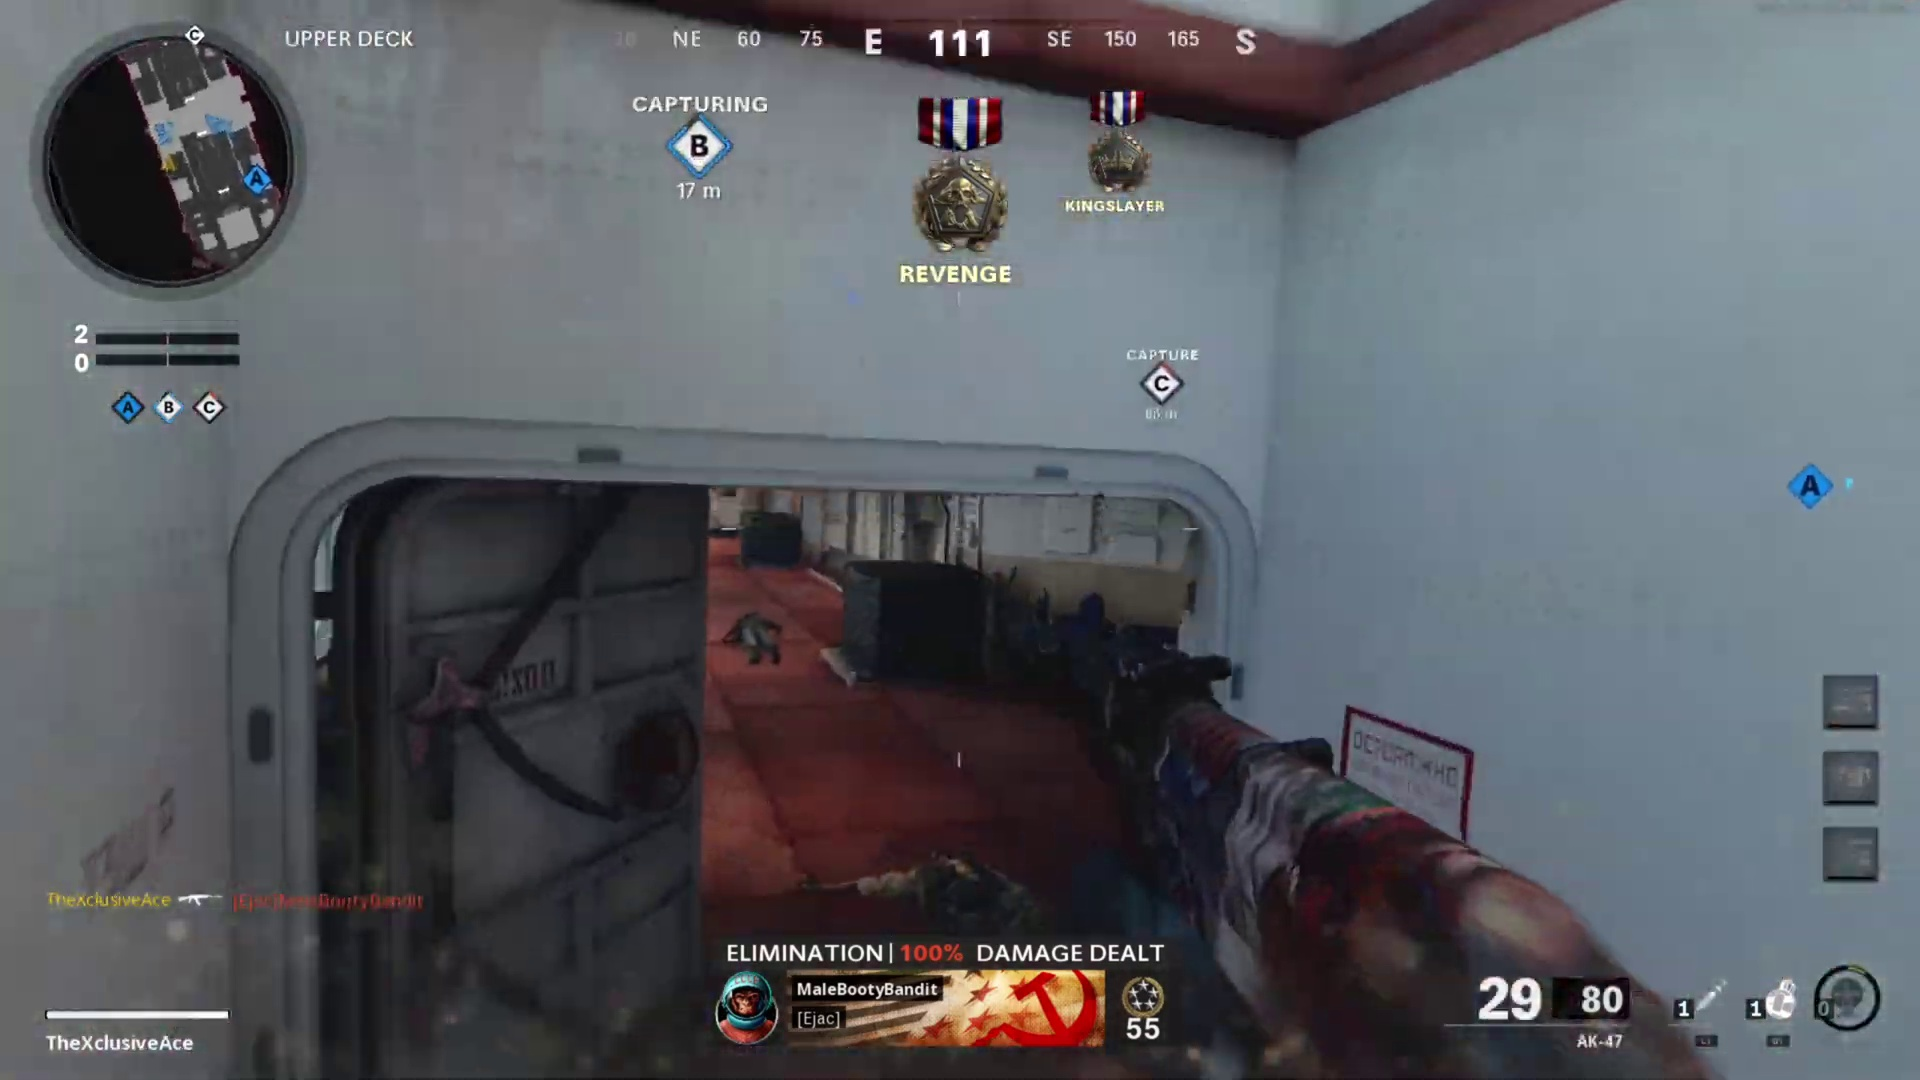person: (723, 607, 779, 662)
